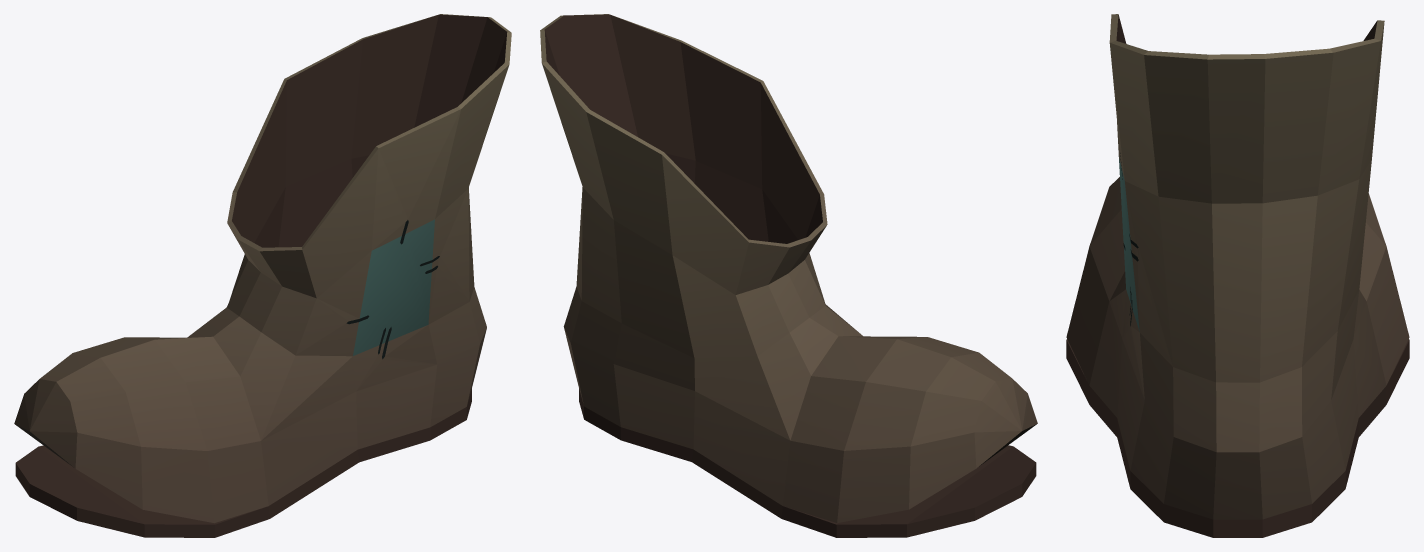
Rendered from collectable_boot.fbx.
The picture shows the model from 3 angles, left to right: view 1: azimuth 30°, elevation 25°; view 2: azimuth 150°, elevation 25°; view 3: azimuth 270°, elevation 25°; orthographic projection. The views are drawn at different scales.
Parts seen in each view (by area): view 1: quest_boot; view 2: quest_boot; view 3: quest_boot.
Boxes of the visible parts, box(x1,y1,x2,y2) form: quest_boot: box(14, 14, 511, 537); quest_boot: box(540, 14, 1037, 537); quest_boot: box(1066, 14, 1409, 537).
Bounding box in the file's own units: 0.7436 × 0.5848 × 0.3356.
